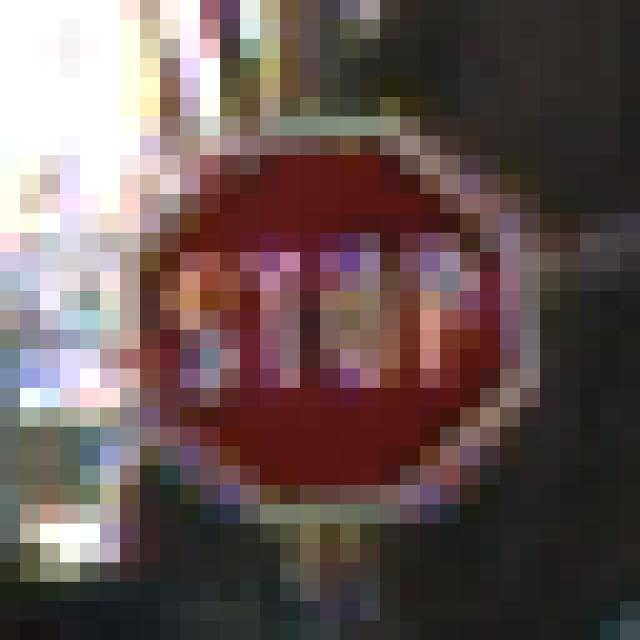STOP: (101, 117, 541, 544)
